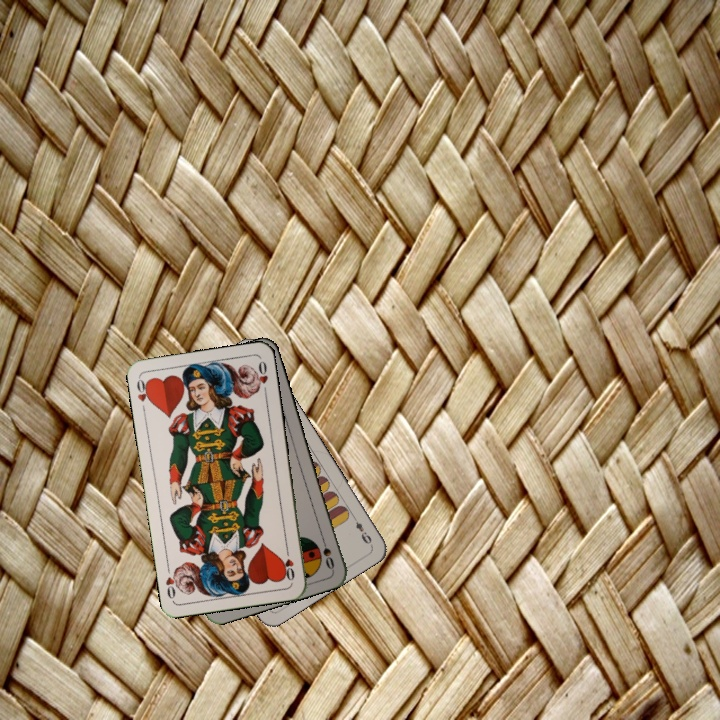E9: (348, 511, 374, 547)
HO: (280, 543, 297, 583), (133, 375, 154, 405)
SO: (317, 532, 337, 572)
